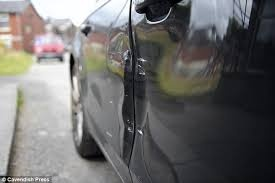Dent: (118, 32, 149, 165)
Scratch: (135, 56, 147, 77)
